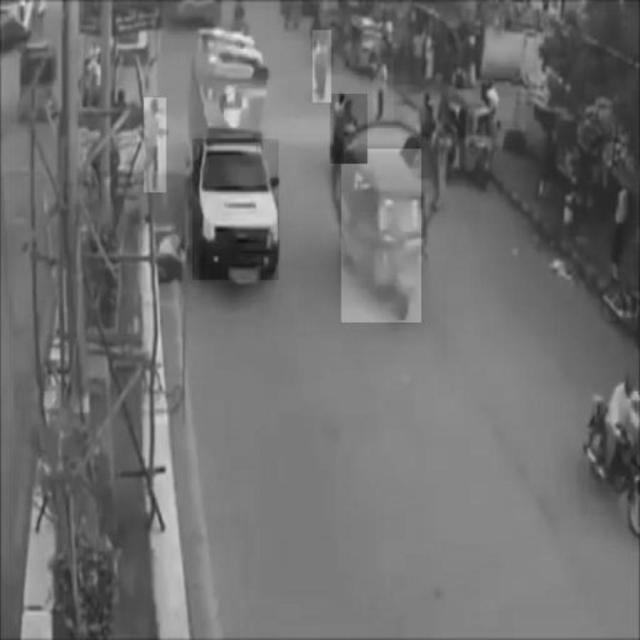person: (145, 98, 167, 192), (373, 57, 393, 125), (313, 30, 331, 102)
vehicle: (342, 149, 422, 323), (193, 139, 279, 280), (329, 94, 367, 164)
